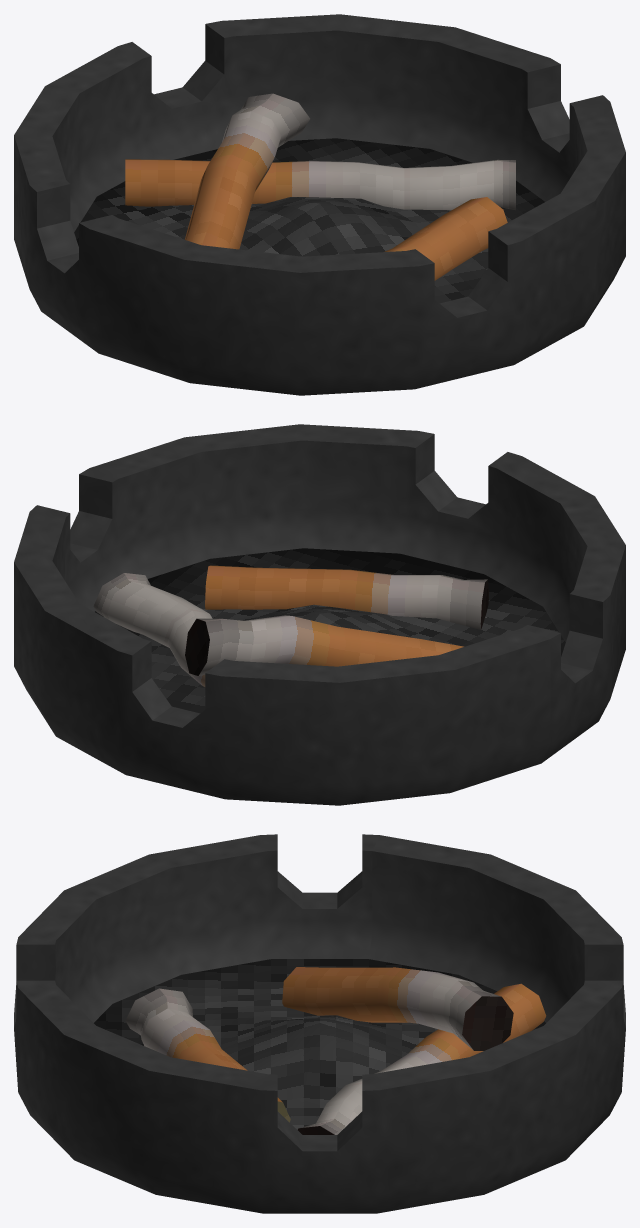
Rendered from ashtray_1.obj.
3 views of the same model, one above another, from view 1: azimuth 30°, elevation 25°; view 2: azimuth 150°, elevation 25°; view 3: azimuth 270°, elevation 25° (orthographic).
Parts seen in each view (by area): view 1: ashtray_1; view 2: ashtray_1; view 3: ashtray_1.
Part boxes in pixels (x1=…): ashtray_1: x1=14, y1=14, x2=625, y2=395; ashtray_1: x1=14, y1=424, x2=625, y2=805; ashtray_1: x1=14, y1=834, x2=625, y2=1213.
Size of the model in its own units: 0.1432 by 0.036 by 0.1432.
